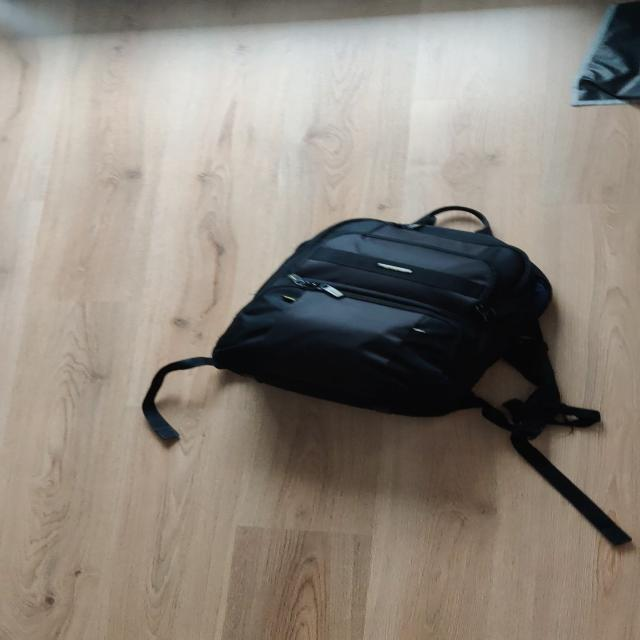backpack: (207, 201, 568, 427), (567, 0, 639, 110)
